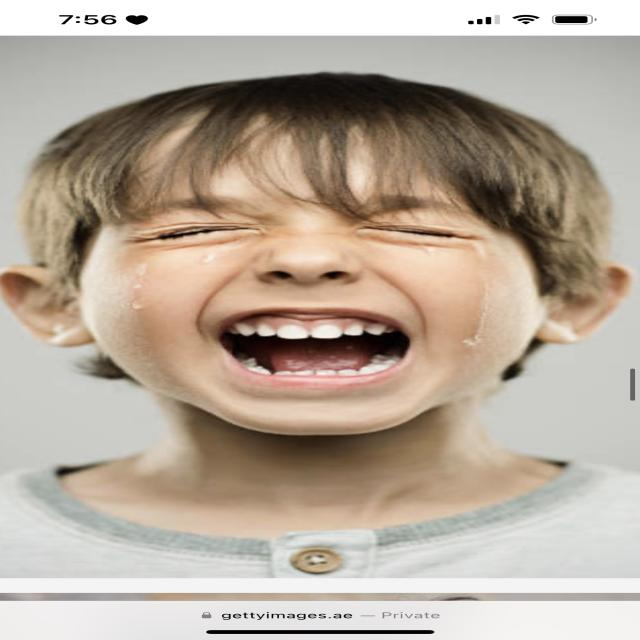angry: (60, 133, 560, 435)
